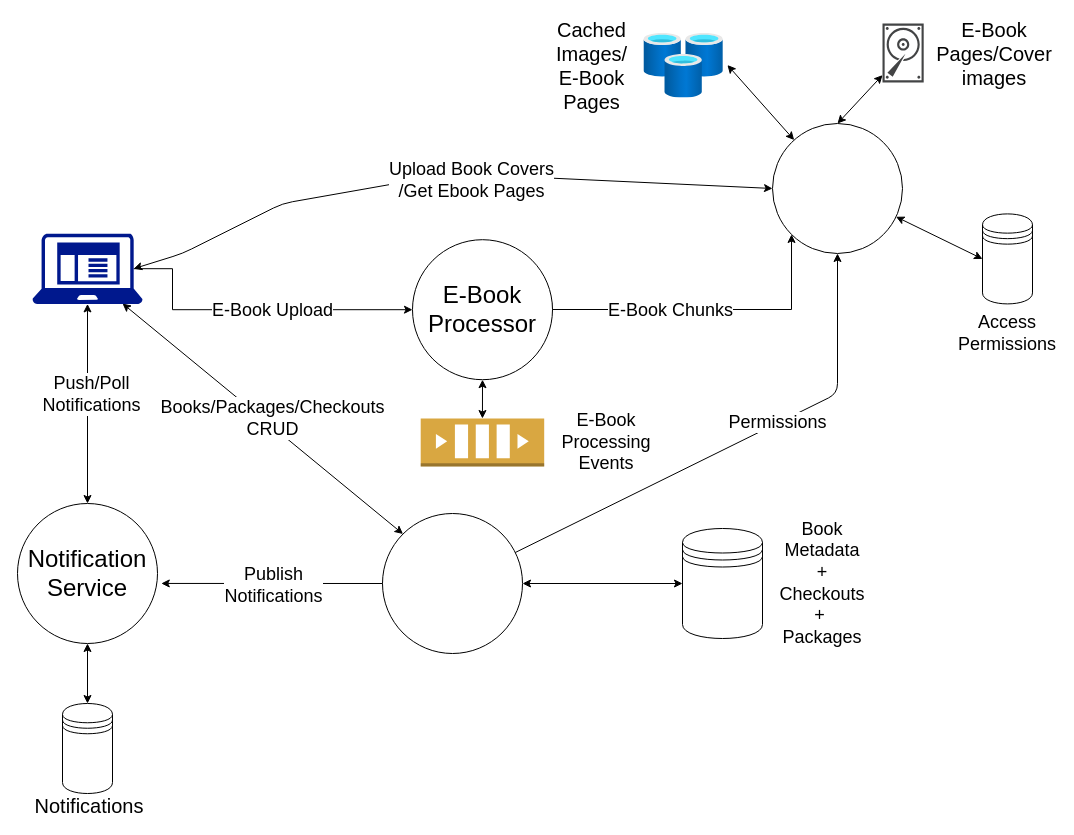
Some shapes in this 1074 by 835 pixel diagram are drawn without their labels. Here are the shapes that lost their labels. From the top down, the centre of each, then its label:
At (837,188): "Asset Service".
At (452,583): "Library Service".
